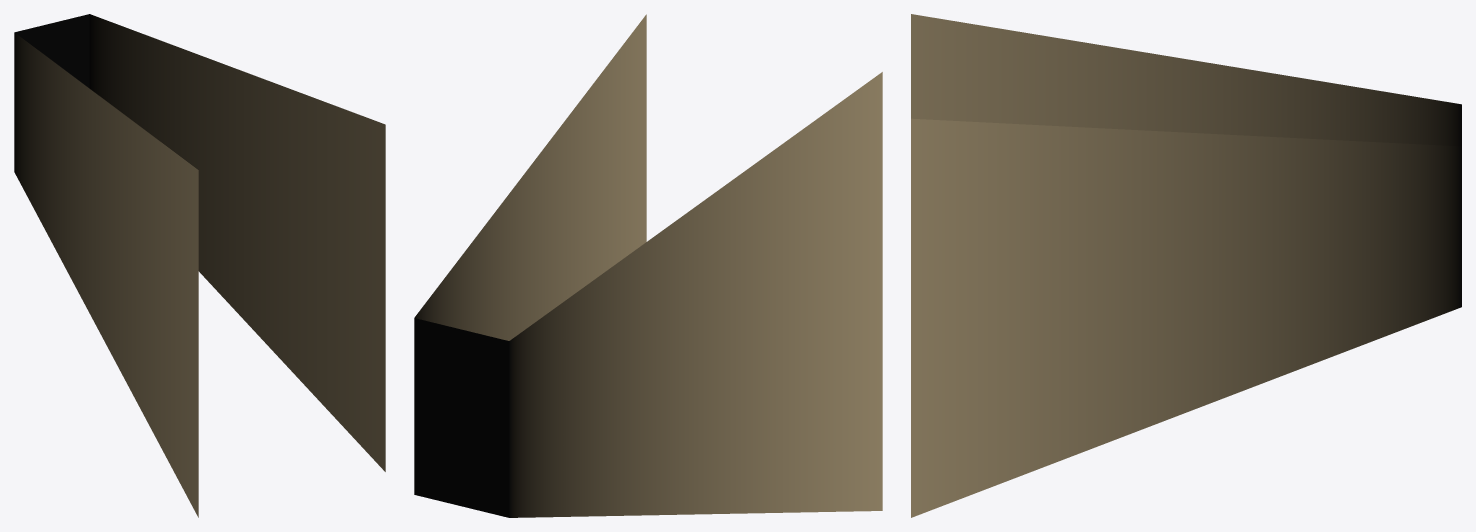
Rendered from walls.fbx.
3 renders of one model, left to right at view 1: azimuth 30°, elevation 25°; view 2: azimuth 150°, elevation 25°; view 3: azimuth 270°, elevation 25°, orthographic. The views are drawn at different scales.
Visible parts, largest first — view 1: Walls; view 2: Walls; view 3: Walls.
Part boxes in pixels (x1,y1,x2,y2): Walls: [14, 14, 385, 517]; Walls: [414, 14, 882, 517]; Walls: [911, 14, 1461, 517].
Bounding box in the file's own units: 0.9 × 1.6 × 2.
